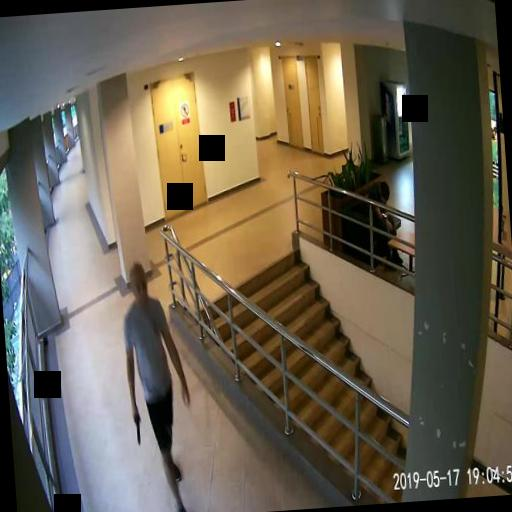Handgun: (132, 408, 142, 442)
